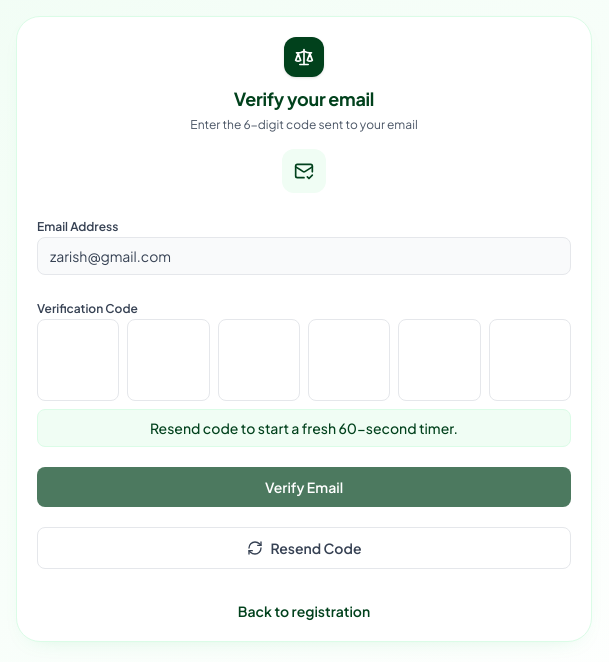
Test: VerifyEmail (OTP screen) › keeps the Verify button disabled until all six digits are entered
This screenshot has width=609, height=662.
Expected: the button "Verify Email" is disabled, [37, 467, 571, 507]
Click the field named "OTP digit 1". click: (78, 360)
box: [37, 319, 119, 401]
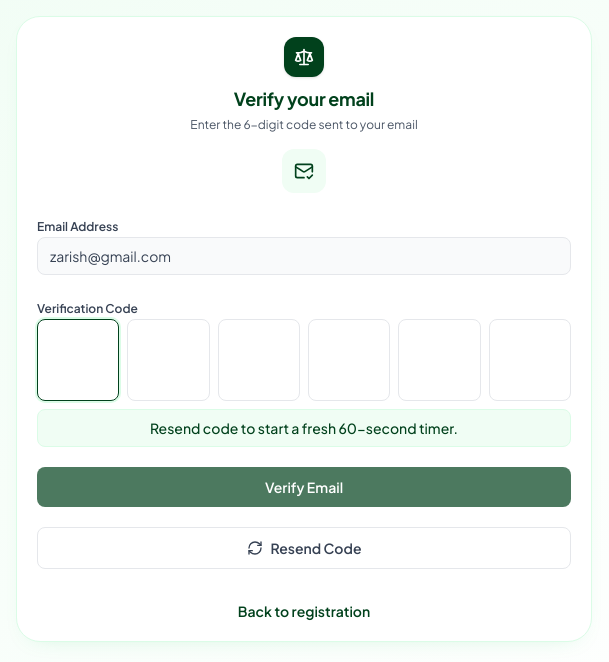
Type keys "12345"
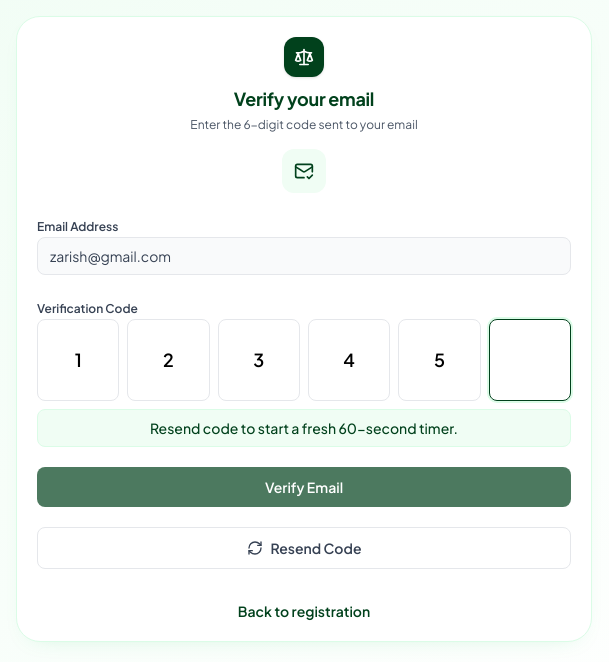
Expected: the button "Verify Email" is disabled, [37, 467, 571, 507]
Click the field named "OTP digit 1". click: (78, 360)
box: [37, 319, 119, 401]
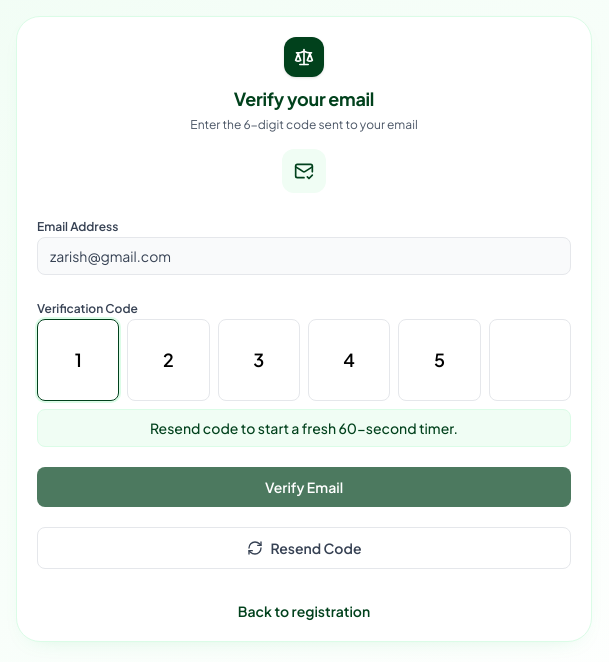
Type keys "123456"
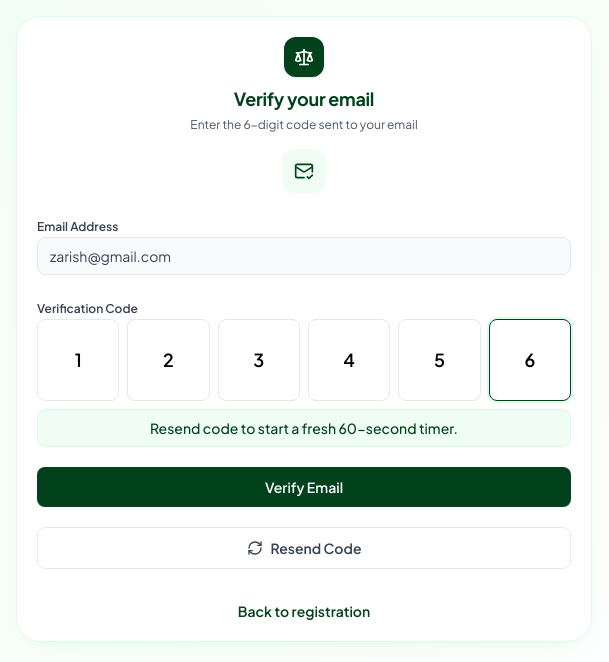
Expected: the button "Verify Email" is enabled, [37, 467, 571, 507]
